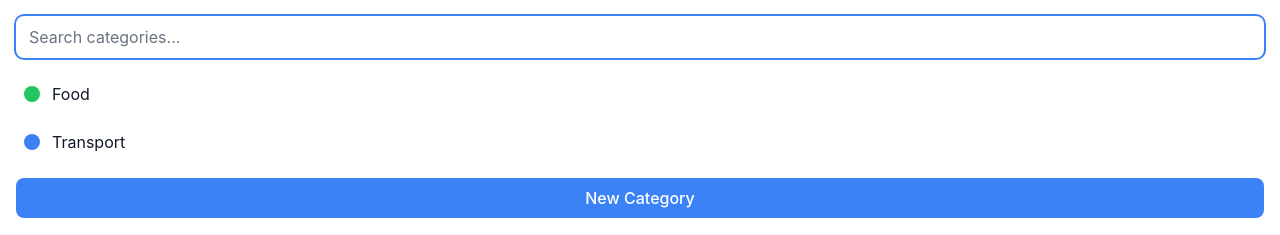
Scenario: CategoriesPage › search › shows all categories again after clearing search
Expected: the text "Food" is shown, top-left (52, 84), bottom-right (90, 104)
Type "foo" into the field with placeholder "Search categories..." at [640, 37], box top-left (16, 16), bottom-right (1264, 58)
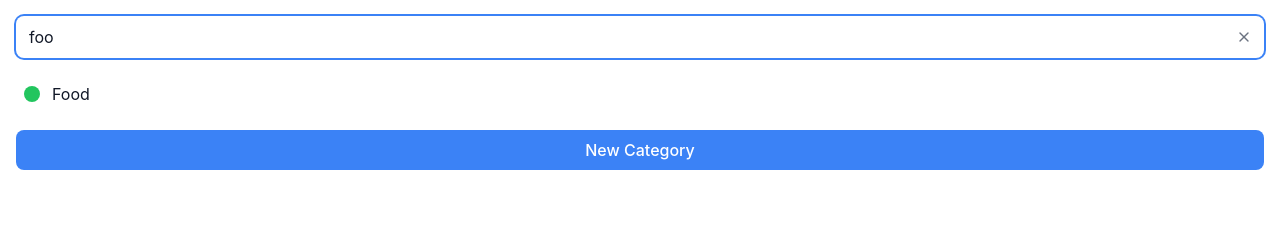
Expected: the button "Transport" is gone
Click the button named "clear search" at [1244, 37], box top-left (1232, 25), bottom-right (1256, 49)
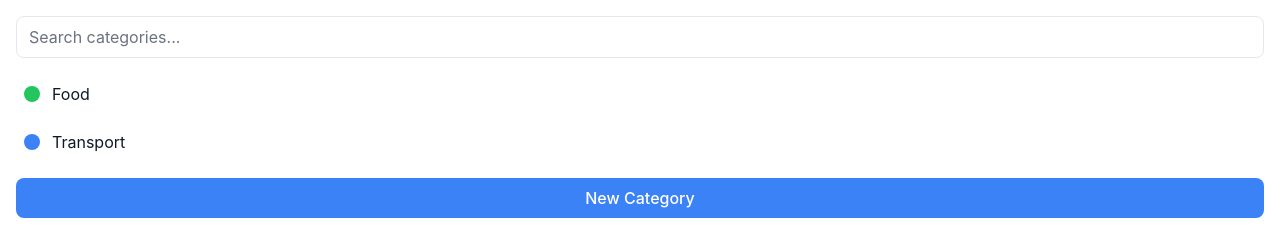
Expected: the text "Food" is shown, top-left (52, 84), bottom-right (90, 104)
Expected: the text "Transport" is shown, top-left (52, 132), bottom-right (125, 152)
